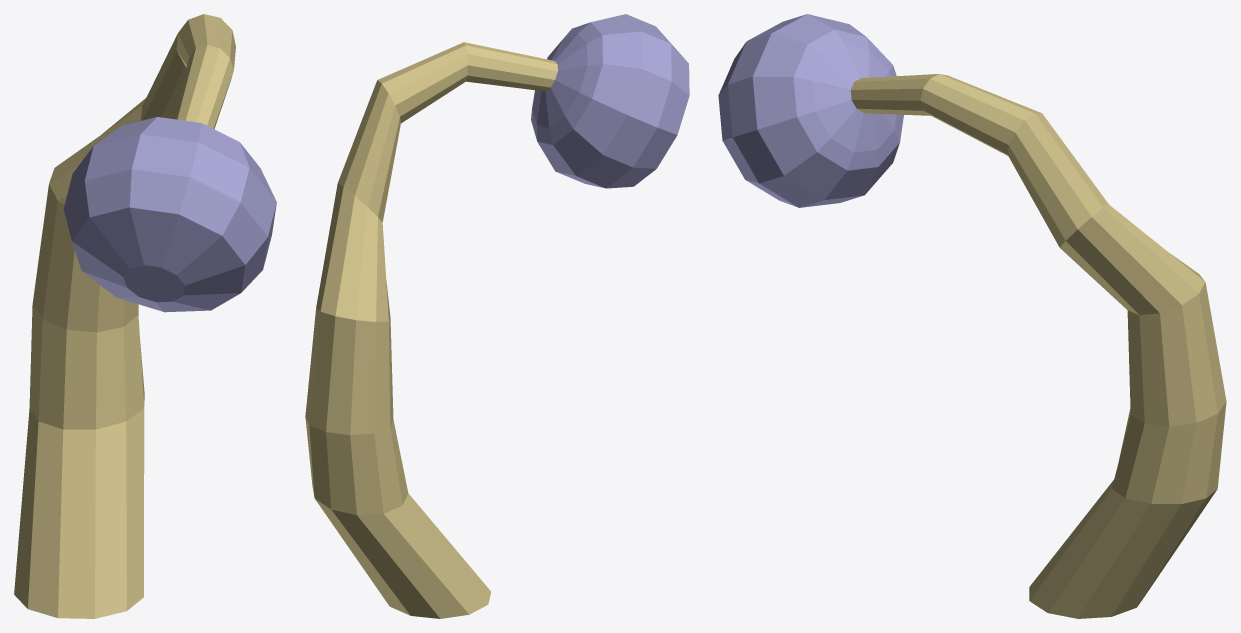
The model's file is mushroom11.fbx.
The picture shows the model from 3 angles, left to right: view 1: azimuth 30°, elevation 25°; view 2: azimuth 150°, elevation 25°; view 3: azimuth 270°, elevation 25°; orthographic projection. The views are drawn at different scales.
Parts seen in each view (by area): view 1: Cylinder; view 2: Cylinder; view 3: Cylinder.
Part boxes in pixels (x1,y1,x2,y2): Cylinder: (14, 14, 276, 618); Cylinder: (305, 14, 689, 618); Cylinder: (718, 14, 1226, 618).
Bounding box in the file's own units: 481 × 1000 × 851.
